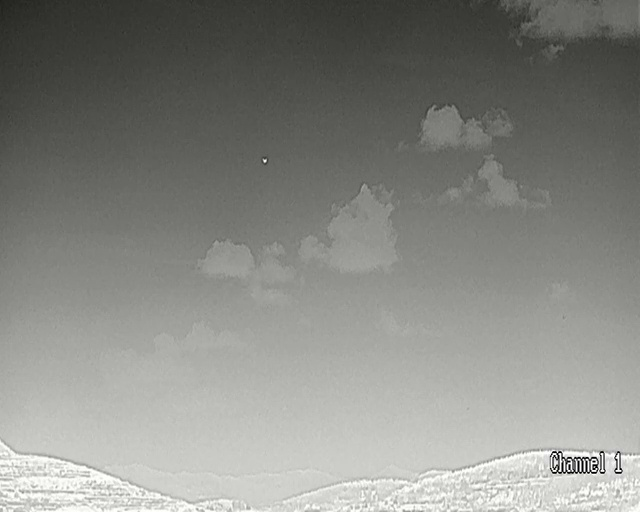uav: (262, 158, 266, 162)
